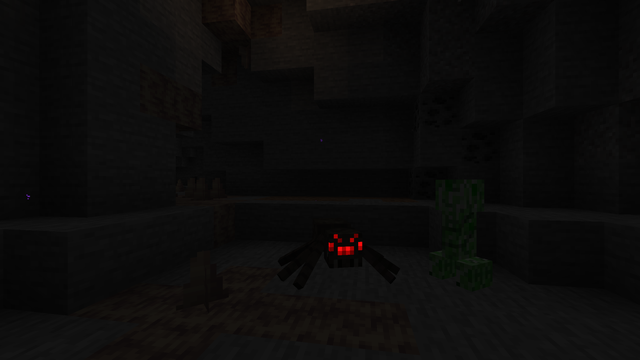araignees: (286, 214, 379, 291)
creepers: (434, 174, 487, 288)
